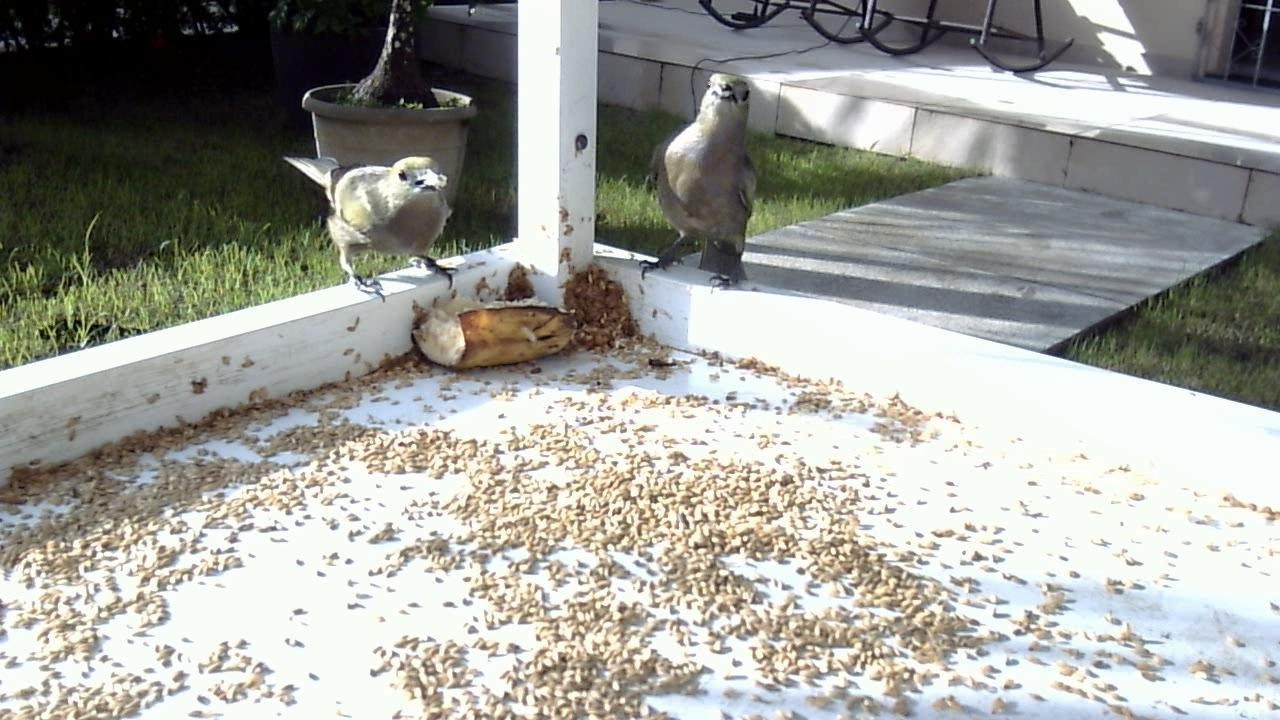sanhaco_do_coqueiro: (277, 140, 461, 311), (635, 59, 767, 294)
